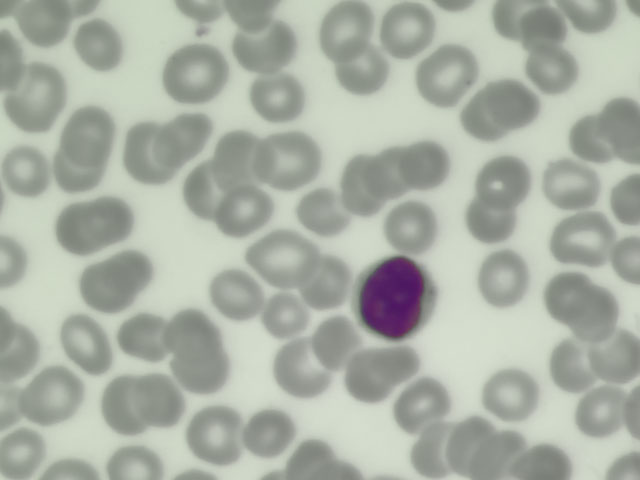RBC: (11, 67, 62, 126), (386, 202, 438, 253), (297, 187, 349, 238), (262, 134, 314, 185), (476, 426, 528, 477), (397, 376, 449, 427), (344, 352, 396, 403), (276, 341, 328, 392), (310, 315, 362, 366), (244, 406, 296, 457), (188, 409, 240, 460), (257, 287, 309, 338), (300, 254, 352, 305), (255, 230, 307, 281), (208, 270, 260, 321), (485, 369, 537, 420), (566, 388, 618, 439), (547, 337, 599, 388), (588, 329, 640, 380), (568, 288, 620, 339), (542, 272, 594, 323), (478, 252, 530, 303), (552, 214, 604, 265), (544, 159, 596, 210), (564, 110, 616, 161), (466, 193, 518, 244), (476, 153, 528, 204), (455, 96, 507, 147), (487, 78, 539, 129), (529, 44, 581, 95), (421, 52, 473, 103), (382, 5, 434, 56), (335, 50, 387, 101), (219, 187, 271, 238), (181, 164, 233, 215), (215, 135, 267, 186), (251, 66, 303, 117), (241, 17, 293, 68), (168, 48, 220, 99), (161, 112, 213, 163), (122, 126, 174, 177), (176, 341, 228, 392), (164, 305, 216, 356), (129, 374, 181, 425), (98, 380, 150, 431), (114, 309, 166, 360), (82, 260, 134, 311), (61, 316, 113, 367), (28, 372, 80, 423), (85, 195, 137, 246), (54, 200, 106, 251), (51, 142, 103, 193), (66, 103, 118, 154), (74, 19, 126, 70), (399, 138, 451, 189), (321, 4, 372, 55), (1, 144, 52, 195), (404, 429, 456, 479), (604, 89, 640, 160), (365, 142, 411, 197), (16, 1, 69, 46), (514, 440, 575, 479), (1, 427, 44, 480), (515, 6, 568, 48), (452, 415, 490, 472), (104, 443, 163, 479), (339, 156, 378, 208), (1, 322, 40, 374), (111, 247, 157, 290), (564, 1, 622, 33), (491, 1, 541, 37), (608, 172, 640, 226), (42, 451, 100, 480), (1, 375, 32, 428), (1, 234, 32, 287), (619, 381, 640, 451), (183, 1, 232, 31), (1, 30, 27, 86), (611, 233, 640, 283), (230, 1, 276, 27)
WBC: (354, 255, 439, 340)
